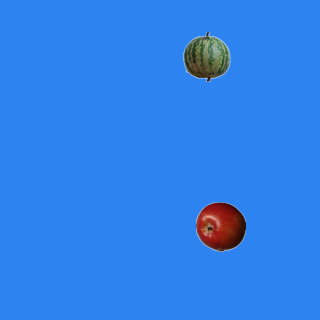Apple Braeburn: (195, 201, 245, 251)
Watermelon: (181, 31, 231, 81)
